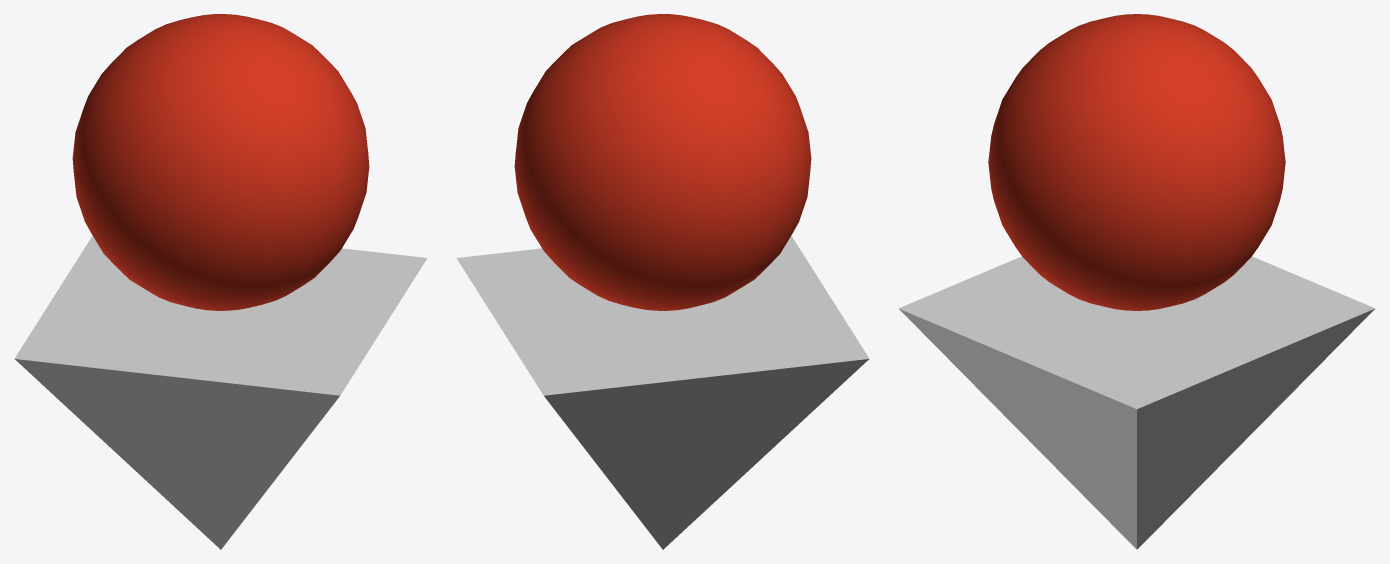
File: CarrierDrone.fbx
3 renders of one model, left to right at view 1: azimuth 30°, elevation 25°; view 2: azimuth 150°, elevation 25°; view 3: azimuth 270°, elevation 25°, orthographic.
Visible parts, largest first — view 1: CarrierDrone; view 2: CarrierDrone; view 3: CarrierDrone.
Part boxes in pixels (x1,y1,x2,y2): CarrierDrone: (14, 14, 427, 549); CarrierDrone: (456, 14, 869, 549); CarrierDrone: (898, 14, 1375, 549).
Bounding box in the file's own units: 354 × 427 × 354.
